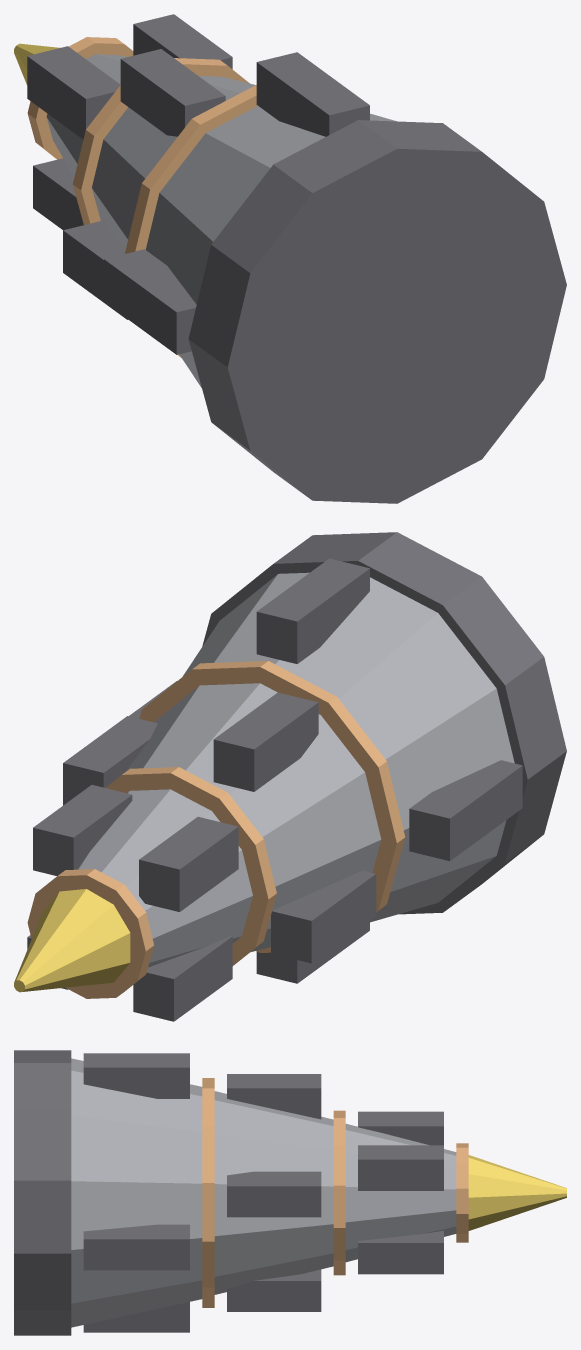
File: drill_bit.glb
3 views of the same model, one above another, from view 1: azimuth 30°, elevation 25°; view 2: azimuth 150°, elevation 25°; view 3: azimuth 270°, elevation 25° (orthographic). The views are drawn at different scales.
Parts seen in each view (by area): view 1: DrillBit; view 2: DrillBit; view 3: DrillBit.
Part boxes in pixels (box(x1,y1,x2,y2)): DrillBit: box(14, 14, 566, 503); DrillBit: box(14, 532, 566, 1021); DrillBit: box(14, 1050, 566, 1335).
Bounding box in the file's own units: 0.714 × 0.714 × 1.35.
